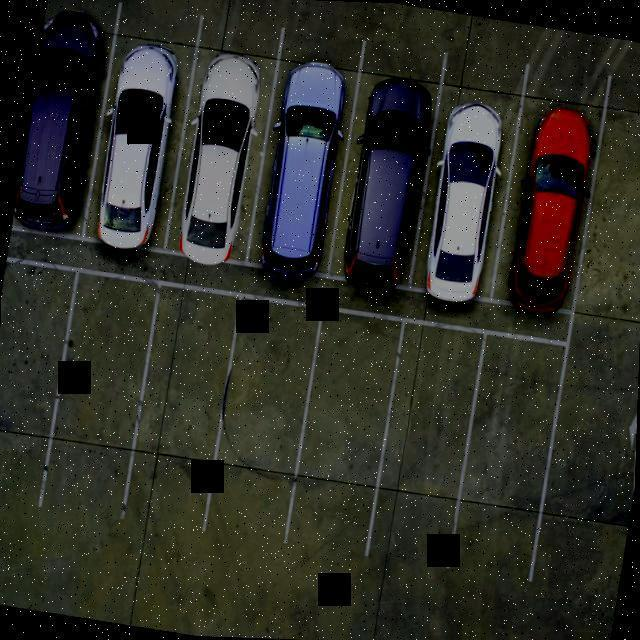space-empty: (364, 319, 486, 569), (283, 308, 402, 549), (121, 282, 239, 521), (201, 299, 316, 539), (41, 271, 156, 508), (454, 335, 567, 573), (0, 257, 79, 500)
space-occupied: (321, 59, 442, 294), (163, 36, 284, 262), (247, 42, 361, 279), (90, 14, 203, 251), (410, 76, 525, 303), (488, 94, 606, 313), (10, 8, 120, 241)
